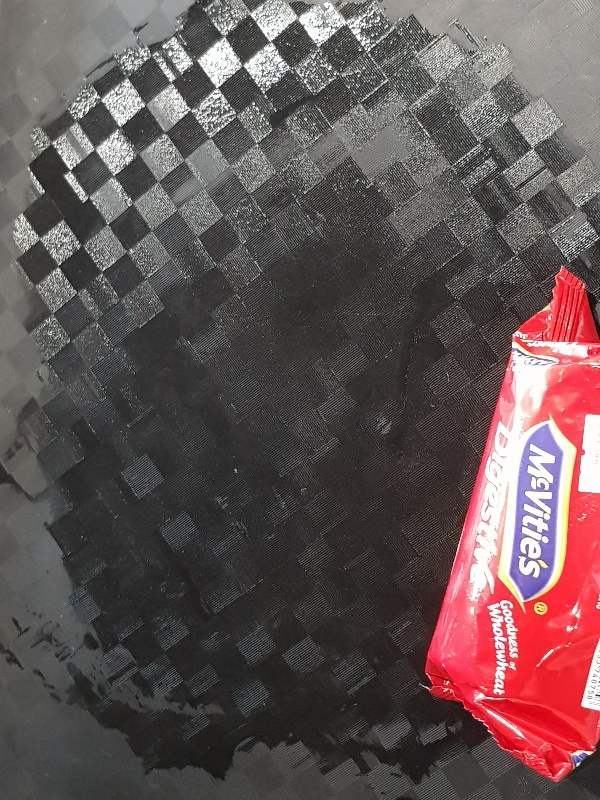Mcvitie's Digestive: (425, 263, 600, 787)
